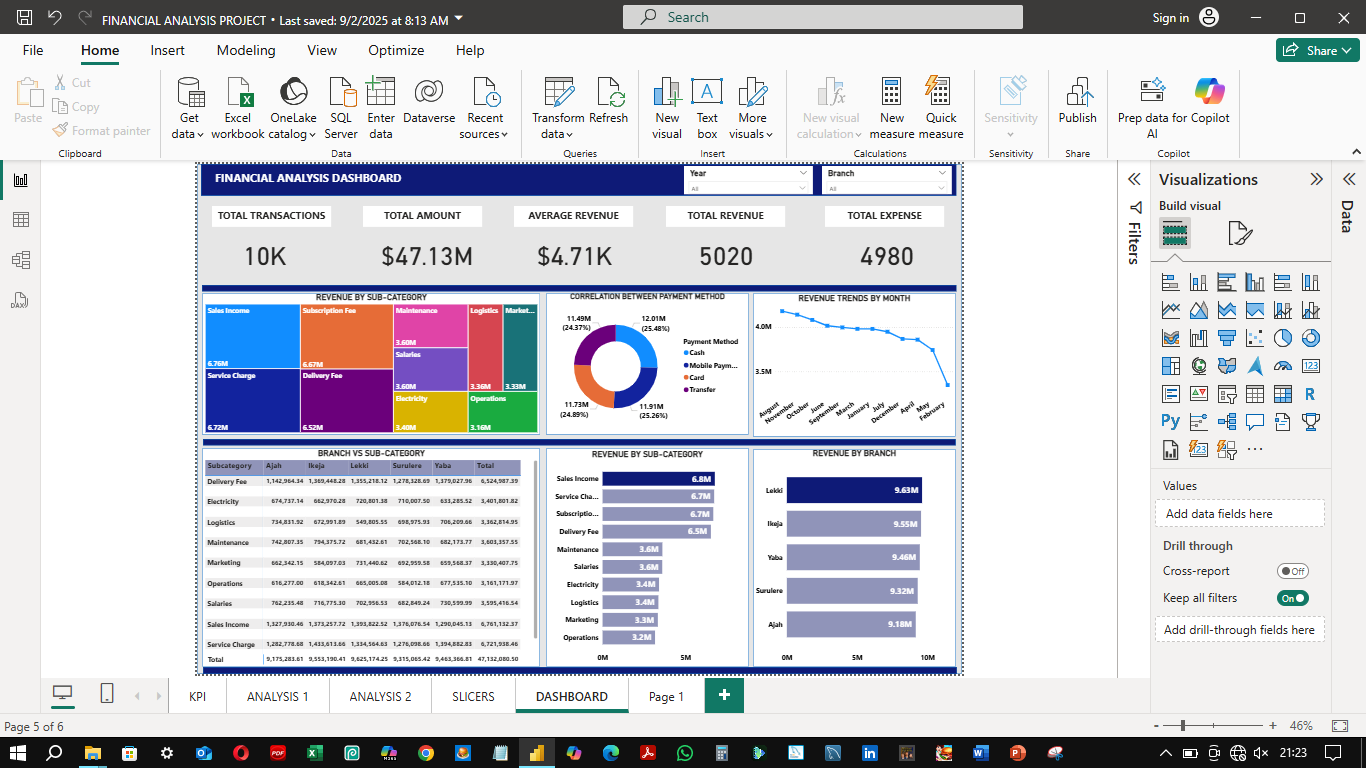

The page's visual inventory and layout, read from the dashboard file:
{"tool":"powerbi","page":{"name":"DASHBOARD","canvas":[1650,1100],"ordinal":4},"visuals":[{"type":"shape","box":[7.8,76.5,309.8,176.5],"z":0,"group":"g1"},{"type":"shape","box":[1329.4,76.5,307.8,176.5],"z":1000,"group":"g1"},{"type":"shape","box":[988.2,74.5,327.5,176.5],"z":2000,"group":"g1"},{"type":"shape","box":[651,76.5,325.5,176.5],"z":3000,"group":"g1"},{"type":"shape","box":[337.3,76.5,300,176.5],"z":4000,"group":"g1"},{"type":"shape","box":[0,0,1650,1100],"z":5000,"group":"g1"},{"type":"shape","box":[7.8,0,1629.4,68.6],"z":6000,"group":"g1"},{"type":"shape","box":[9.8,260.8,1627.5,13.7],"z":7000,"group":"g1"},{"type":"shape","box":[13.7,594.1,1623.5,13.7],"z":8000,"group":"g1"},{"type":"shape","box":[12.9,1084.9,1626.3,15.1],"z":9000,"group":"g1"},{"type":"shape","box":[9.8,278.4,729.4,305.9],"z":10000,"group":"g1"},{"type":"shape","box":[752.9,278.4,437.3,305.9],"z":11000,"group":"g1"},{"type":"shape","box":[1200,278.4,437.3,309.8],"z":12000,"group":"g1"},{"type":"shape","box":[10.8,612.5,729,472.4],"z":13000,"group":"g1"},{"type":"shape","box":[752.7,612.5,437.8,472.4],"z":14000,"group":"g1"},{"type":"shape","box":[1199.2,614.7,437.8,470.2],"z":15000,"group":"g1"},{"type":"donutChart","title":"CORRELATION BETWEEN PAYMENT METHOD","fields":{"Category":["Sheet1.Payment Method"],"Y":["Sum(Sheet1.Amount)"]},"box":[752.7,276.1,437.8,302],"z":16000,"group":"g1"},{"type":"treemap","title":"REVENUE BY  SUB-CATEGORY","fields":{"Values":["Sum(Sheet1.Amount)"],"Group":["Sheet1.Subcategory"]},"box":[12.9,276.1,726.9,308.4],"z":17000,"group":"g1"},{"type":"pivotTable","title":"BRANCH VS SUB-CATEGORY","fields":{"Rows":["Sheet1.Subcategory"],"Columns":["Sheet1.Branch"],"Values":["Sum(Sheet1.Amount)"]},"box":[12.9,612.5,726.9,472.4],"z":18000,"group":"g1"},{"type":"lineChart","title":"REVENUE TRENDS BY MONTH","fields":{"Category":["DATE TABLE.MONTH"],"Y":["Sum(Sheet1.Amount)"]},"box":[1199.2,278.2,437.8,306.3],"z":19000,"group":"g1"},{"type":"barChart","title":"REVENUE BY SUB-CATEGORY","fields":{"Category":["Sheet1.Subcategory"],"Y":["Sum(Sheet1.Amount)"]},"box":[752.7,614.7,437.8,470.2],"z":20000,"group":"g1"},{"type":"barChart","title":"REVENUE BY BRANCH","fields":{"Category":["Sheet1.Branch"],"Y":["Sum(Sheet1.Amount)"]},"box":[1199.2,612.5,437.8,472.4],"z":21000,"group":"g1"},{"type":"card","fields":{"Values":["DATE TABLE.AVERAGE REVENUE"]},"box":[717.6,115.7,192.2,151],"z":22000,"group":"g1"},{"type":"card","fields":{"Values":["Sheet1.COUNT OF TRANSACTION"]},"box":[51,113.7,188.2,154.9],"z":23000,"group":"g1"},{"type":"textbox","box":[9.8,7.8,458.8,52.9],"z":24000,"group":"g1"},{"type":"slicer","fields":{"Values":["Sheet1.Year"]},"box":[1051,3.9,278.4,60.8],"z":25000,"group":"g1"},{"type":"slicer","fields":{"Values":["Sheet1.Branch"]},"box":[1347.1,3.9,280.4,60.8],"z":26000,"group":"g1"},{"type":"textbox","box":[33.3,90.2,256.9,45.1],"z":27000,"group":"g1"},{"type":"textbox","box":[1354.9,90.2,256.9,45.1],"z":28000,"group":"g1"},{"type":"textbox","box":[1011.8,90.2,256.9,45.1],"z":29000,"group":"g1"},{"type":"textbox","box":[684.3,90.2,256.9,45.1],"z":30000,"group":"g1"},{"type":"textbox","box":[358.8,90.2,256.9,45.1],"z":31000,"group":"g1"},{"type":"card","fields":{"Values":["Sheet1.TOTAL REVENUE"]},"box":[378.4,121.6,237.3,141.2],"z":32000,"group":"g1"},{"type":"card","fields":{"Values":["Sheet1.TOTAL EXPENCE 1"]},"box":[1348,116.5,280.4,151],"z":33000,"group":"g1"},{"type":"card","fields":{"Values":["Sheet1.TOTAL REVENUE"]},"box":[1000.8,107.8,278.2,168.2],"z":34000,"group":"g1"},{"type":"group","id":"g1","title":"Group 1","box":[0,0,1650,1100],"z":34004}]}

Visuals, with their boxes on the page's 1650x1100 design canvas (x1, y1, x2, y2). These are canvas units, not pixel positions in the 1366x768 screenshot, which may show the page scaled, cropped or inside an application window:
shape: detection(8, 76, 318, 253)
shape: detection(1329, 76, 1637, 253)
shape: detection(988, 74, 1316, 251)
shape: detection(651, 76, 976, 253)
shape: detection(337, 76, 637, 253)
shape: detection(0, 0, 1650, 1100)
shape: detection(8, 0, 1637, 69)
shape: detection(10, 261, 1637, 274)
shape: detection(14, 594, 1637, 608)
shape: detection(13, 1085, 1639, 1100)
shape: detection(10, 278, 739, 584)
shape: detection(753, 278, 1190, 584)
shape: detection(1200, 278, 1637, 588)
shape: detection(11, 612, 740, 1085)
shape: detection(753, 612, 1190, 1085)
shape: detection(1199, 615, 1637, 1085)
"CORRELATION BETWEEN PAYMENT METHOD" donutChart: detection(753, 276, 1190, 578)
"REVENUE BY  SUB-CATEGORY" treemap: detection(13, 276, 740, 584)
"BRANCH VS SUB-CATEGORY" pivotTable: detection(13, 612, 740, 1085)
"REVENUE TRENDS BY MONTH" lineChart: detection(1199, 278, 1637, 584)
"REVENUE BY SUB-CATEGORY" barChart: detection(753, 615, 1190, 1085)
"REVENUE BY BRANCH" barChart: detection(1199, 612, 1637, 1085)
card - DATE TABLE.AVERAGE REVENUE: detection(718, 116, 910, 267)
card - Sheet1.COUNT OF TRANSACTION: detection(51, 114, 239, 269)
textbox: detection(10, 8, 469, 61)
slicer - Sheet1.Year: detection(1051, 4, 1329, 65)
slicer - Sheet1.Branch: detection(1347, 4, 1628, 65)
textbox: detection(33, 90, 290, 135)
textbox: detection(1355, 90, 1612, 135)
textbox: detection(1012, 90, 1269, 135)
textbox: detection(684, 90, 941, 135)
textbox: detection(359, 90, 616, 135)
card - Sheet1.TOTAL REVENUE: detection(378, 122, 616, 263)
card - Sheet1.TOTAL EXPENCE 1: detection(1348, 116, 1628, 268)
card - Sheet1.TOTAL REVENUE: detection(1001, 108, 1279, 276)
"Group 1" group: detection(0, 0, 1650, 1100)
